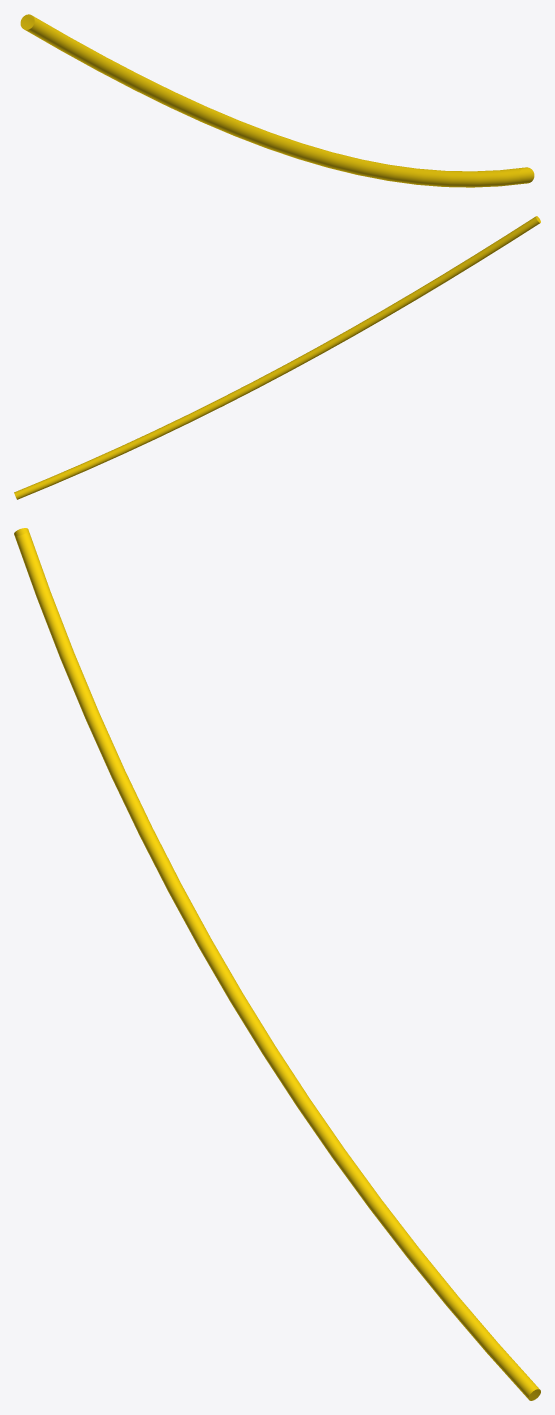
The model's file is Event_420094457_track_85.fbx.
3 renders of one model, top to bottom at view 1: azimuth 30°, elevation 25°; view 2: azimuth 150°, elevation 25°; view 3: azimuth 270°, elevation 25°, orthographic. The views are drawn at different scales.
Visible parts, largest first — view 1: Model; view 2: Model; view 3: Model.
Part boxes in pixels (x1=…): Model: x1=20, y1=14, x2=534, y2=187; Model: x1=14, y1=216, x2=540, y2=499; Model: x1=14, y1=528, x2=540, y2=1400.
Bounding box in the file's own units: 2.22 × 1.51 × 1.38.
